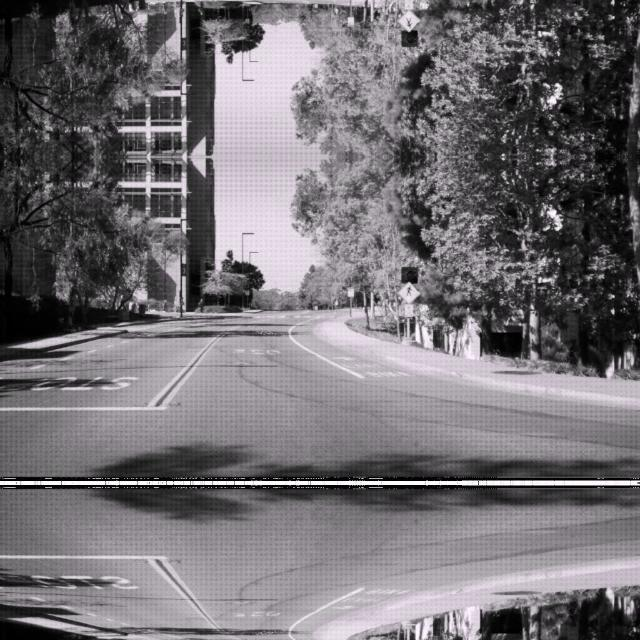pedestrianCrossing: (397, 280, 419, 302), (397, 10, 419, 32)
